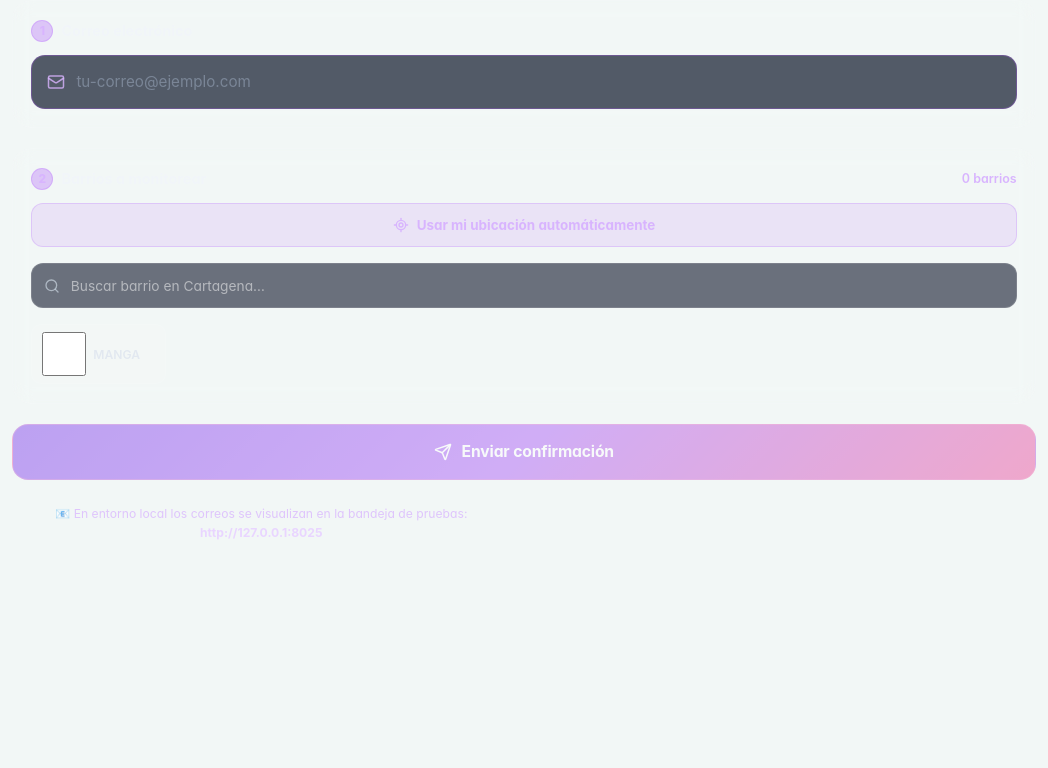
it: FormularioSuscripcion › muestra el detalle RFC 7807 cuando el servidor rechaza el correo
Type "x@x.co" into the field labelled "1 Correo electrónico" at coordinates (524, 82), box [31, 55, 1017, 109]
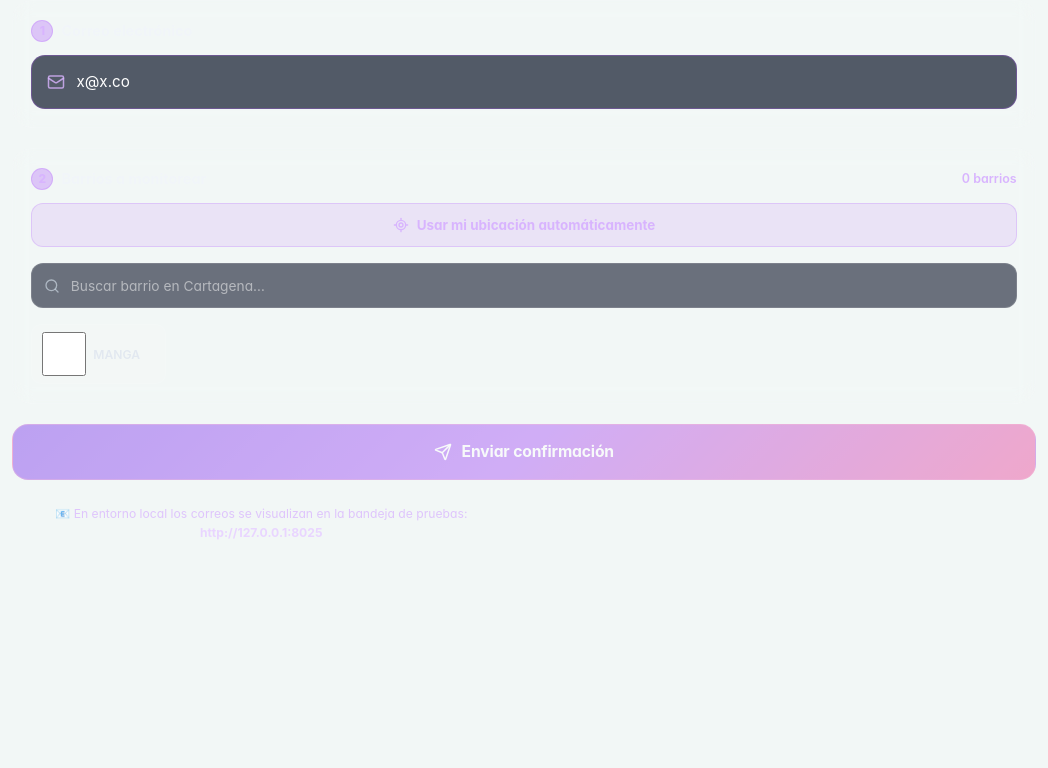
Click the checkbox labelled "MANGA" at coordinates (64, 354), box [42, 332, 86, 376]
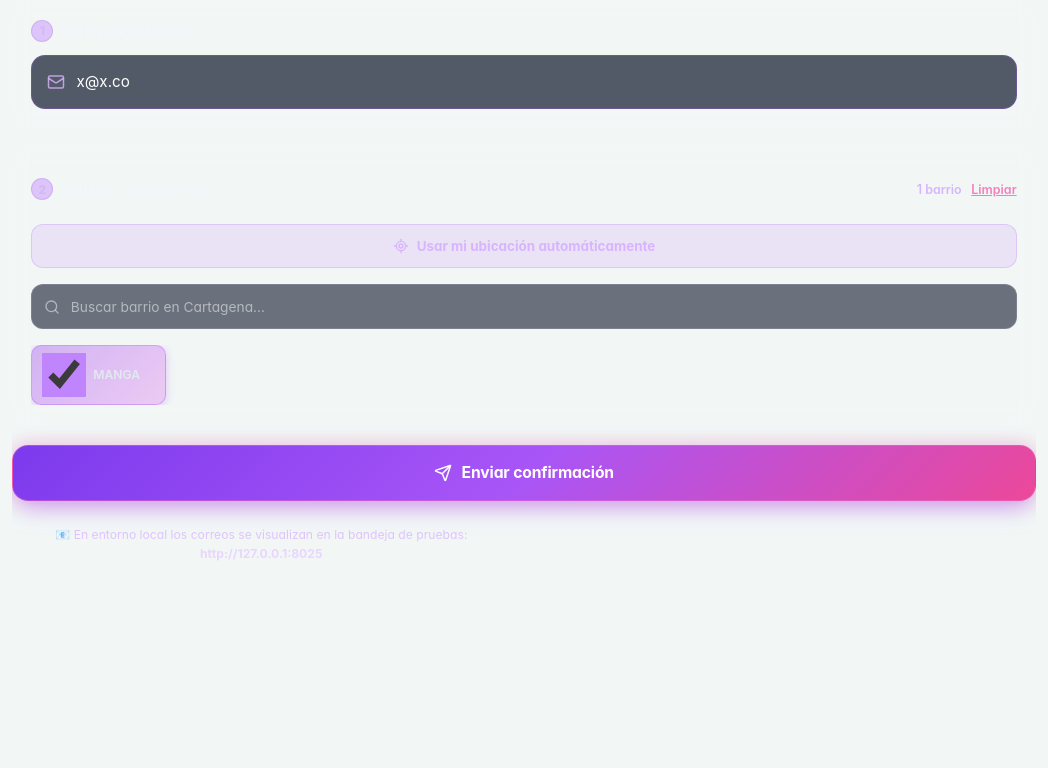
Click the button "Enviar confirmación" at coordinates (524, 473), box [12, 445, 1036, 501]
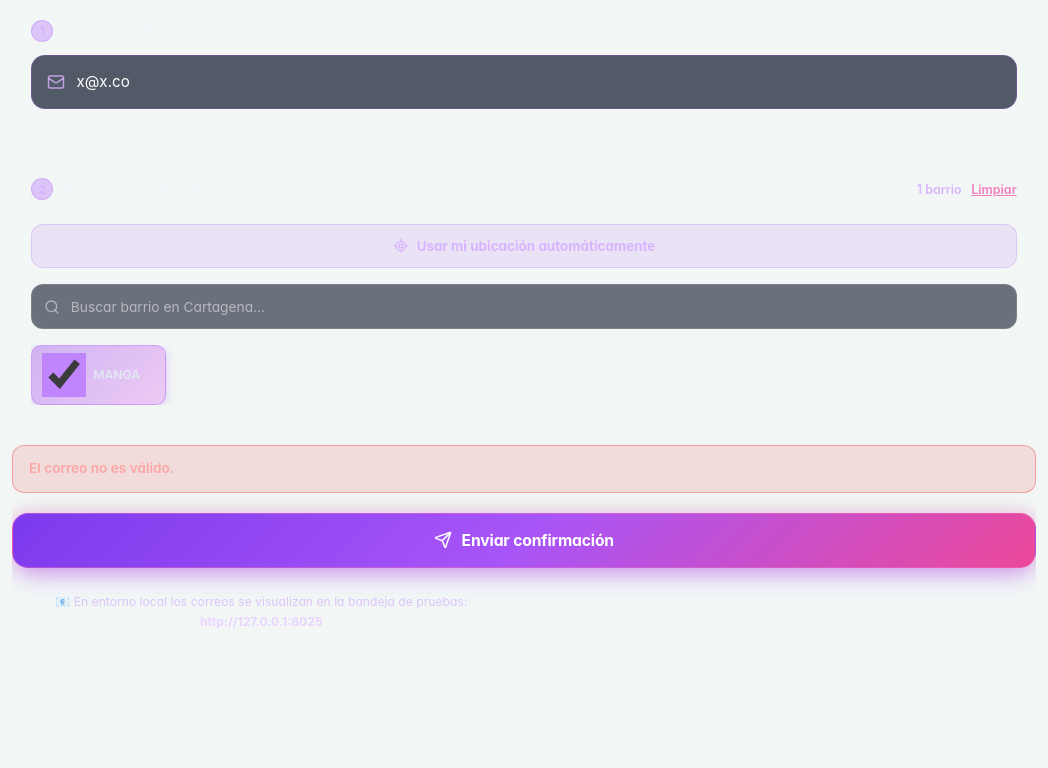
Check: the message shows "correo no es válido", box [29, 460, 174, 476]
